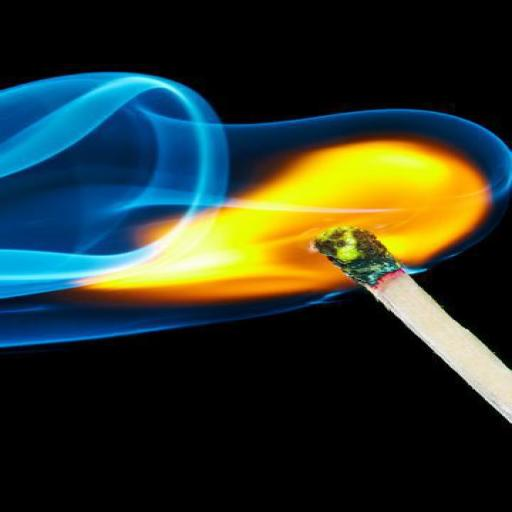fire: (52, 134, 493, 303)
